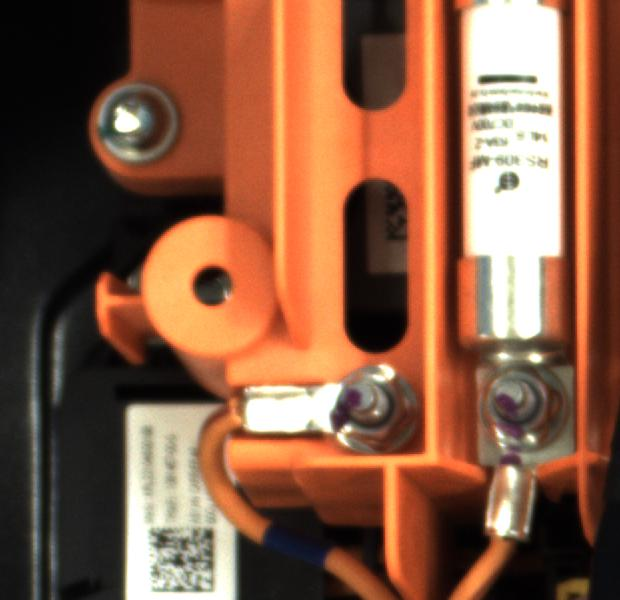screw_m: (84, 77, 198, 168)
screw_s: (319, 360, 421, 451), (475, 363, 570, 451)
